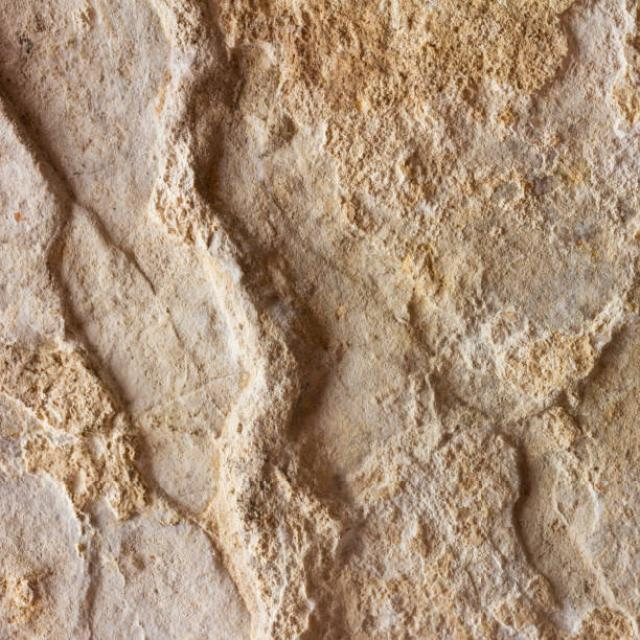Sedimentary: (1, 1, 637, 638)
